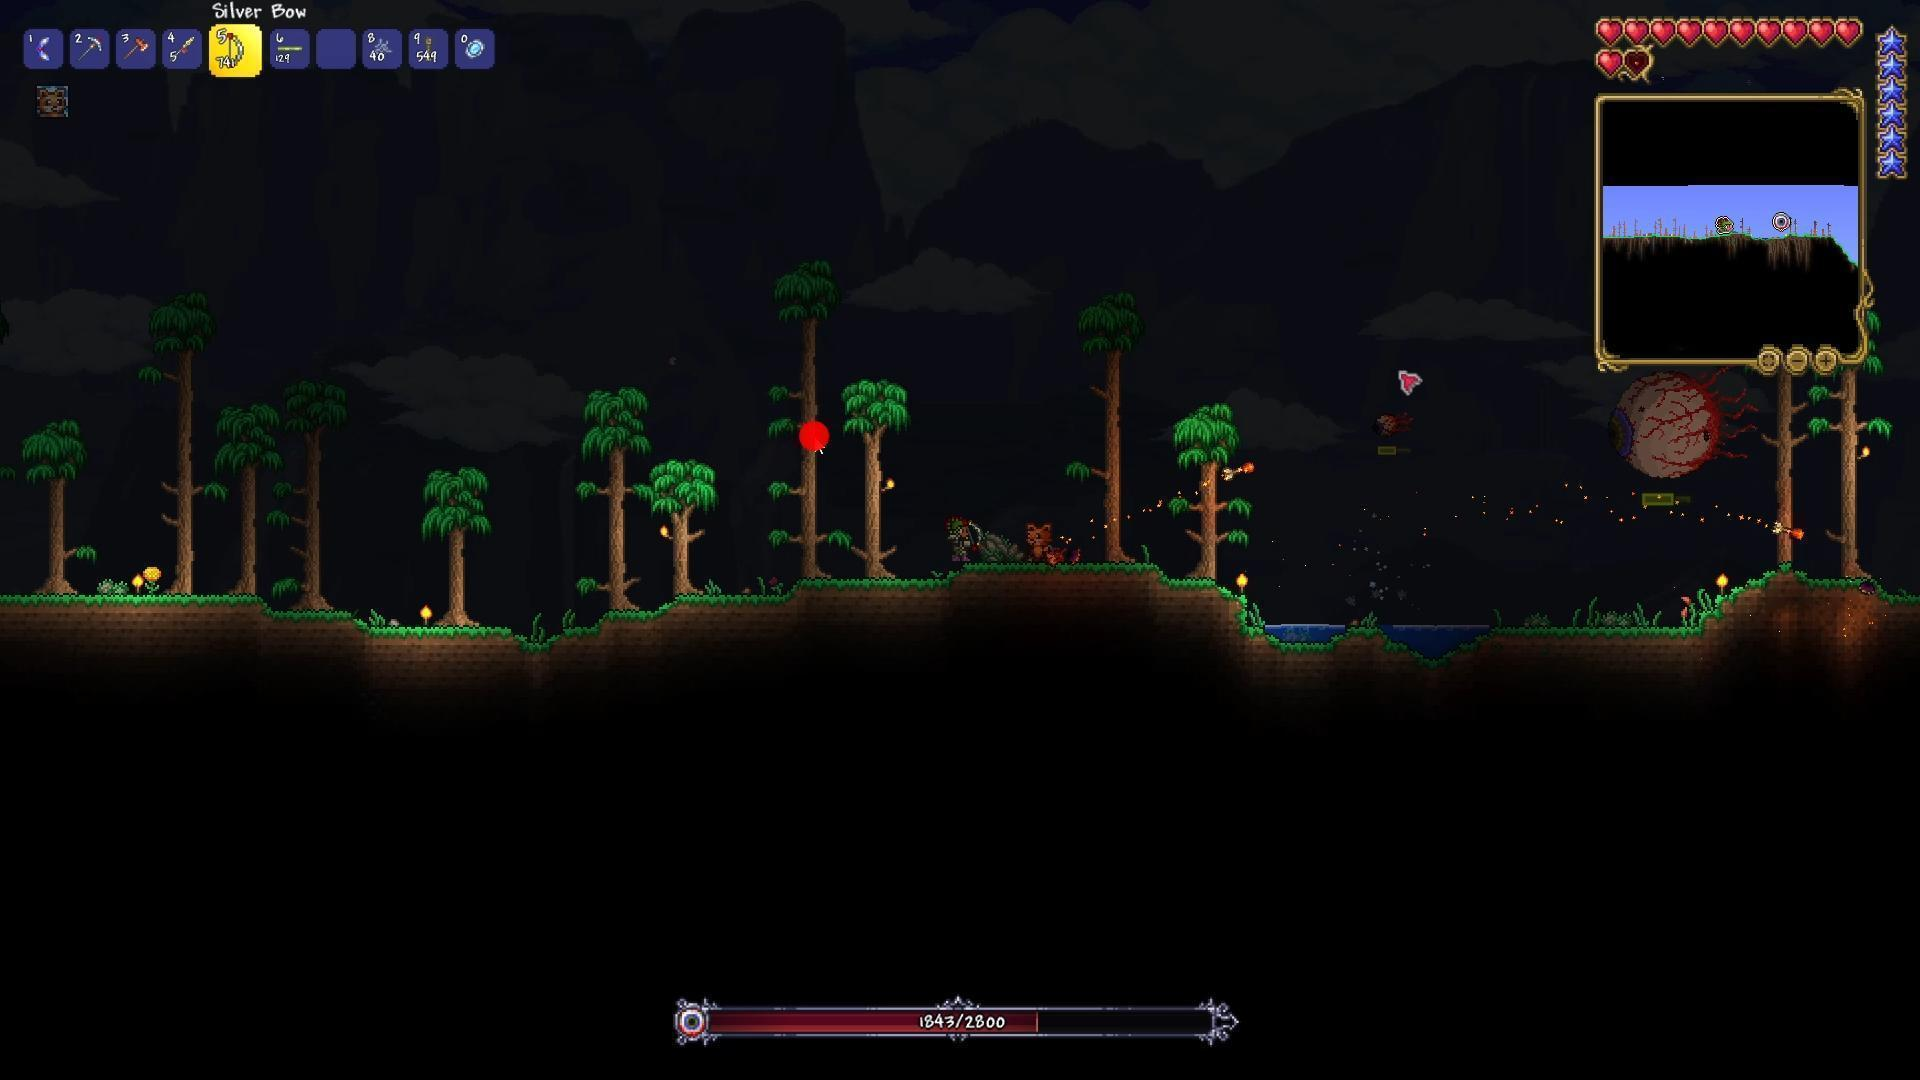axe: (119, 36, 150, 65)
cobwebI: (371, 37, 394, 59)
eye: (1358, 393, 1425, 450)
eyeC: (1597, 361, 1771, 501)
liquid: (1262, 617, 1346, 637), (1383, 617, 1485, 633)
torchT: (1837, 436, 1882, 468), (1218, 562, 1254, 600), (125, 564, 160, 600), (411, 601, 442, 641), (644, 517, 682, 546), (1709, 568, 1737, 604)
tree: (757, 251, 851, 608), (132, 287, 227, 605), (1072, 285, 1149, 588), (578, 372, 655, 637), (1822, 335, 1895, 618), (272, 385, 349, 636), (15, 406, 95, 613), (211, 386, 277, 633), (423, 467, 504, 650), (1763, 357, 1824, 589), (1168, 390, 1233, 603), (655, 446, 725, 629)
